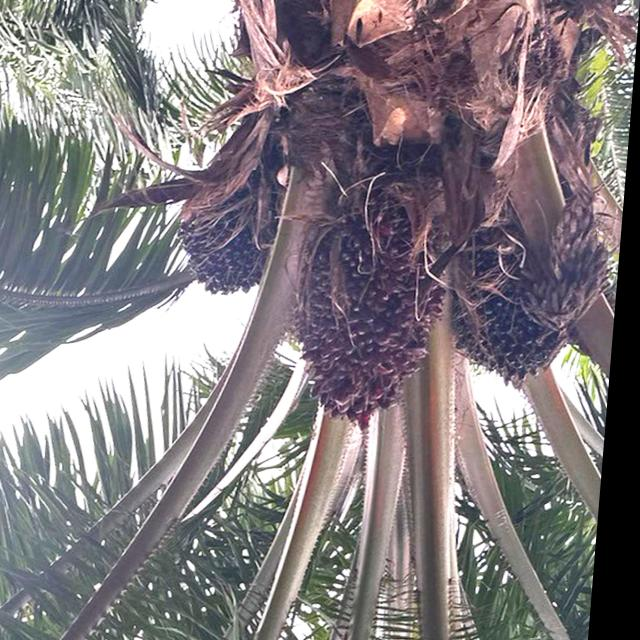ripe: (283, 192, 450, 433), (451, 268, 578, 399), (178, 196, 279, 300)
